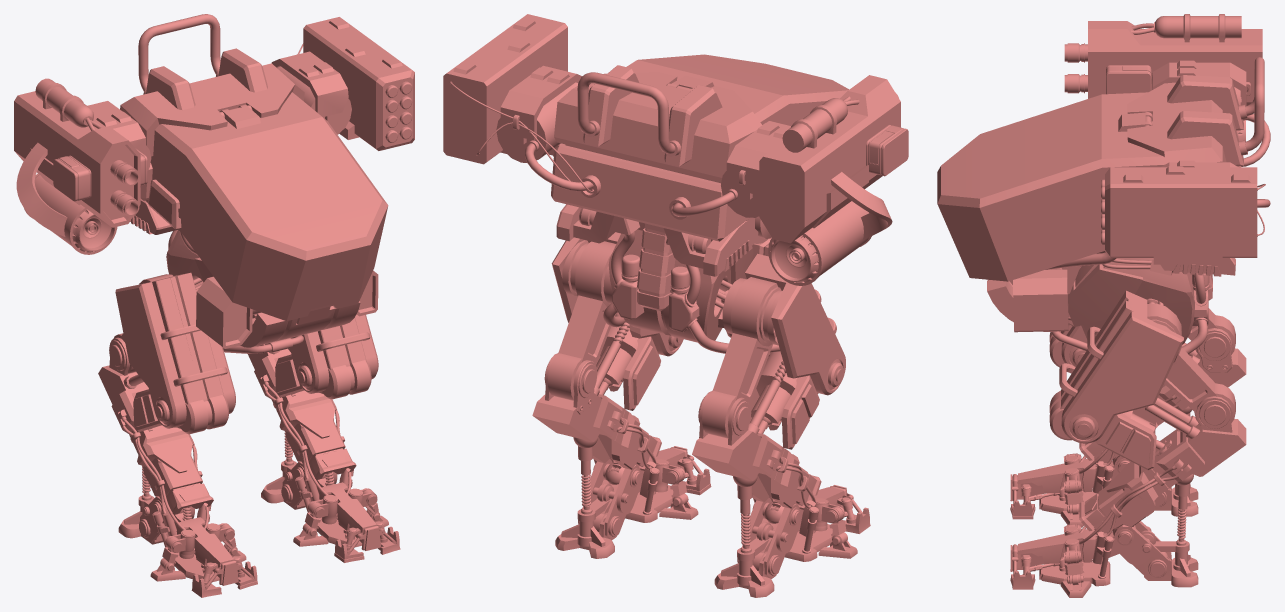
File: light.glb
The picture shows the model from 3 angles, left to right: view 1: azimuth 30°, elevation 25°; view 2: azimuth 150°, elevation 25°; view 3: azimuth 270°, elevation 25°; orthographic projection. The views are drawn at different scales.
Visible parts, largest first — view 1: light_mech_body_low_body.001_0, light_mech_weapon_low_weapon.001_0, light_mech_armorleg_low_armorleg.001_0, light_mech_leg_low_leg.001_0, light_mech_armorbody_low_armorbody.001_0, light_mech_foot_low_foot.001_0, light_mech_footdetail_low_foot.001_0, light_mech_wires_low_wires.001_0, light_mech_weapondetail_low_weapon.001_0, light_mech_spine_low_spine.001_0, light_mech_legdetail_low_leg.001_0; view 2: light_mech_weapon_low_weapon.001_0, light_mech_leg_low_leg.001_0, light_mech_armorbody_low_armorbody.001_0, light_mech_armorleg_low_armorleg.001_0, light_mech_foot_low_foot.001_0, light_mech_spine_low_spine.001_0, light_mech_wires_low_wires.001_0, light_mech_body_low_body.001_0, light_mech_footdetail_low_foot.001_0, light_mech_weapondetail_low_weapon.001_0, light_mech_legdetail_low_leg.001_0, light_mech_spinedetail_low_spine.001_0; view 3: light_mech_body_low_body.001_0, light_mech_weapon_low_weapon.001_0, light_mech_armorleg_low_armorleg.001_0, light_mech_leg_low_leg.001_0, light_mech_foot_low_foot.001_0, light_mech_armorbody_low_armorbody.001_0, light_mech_spine_low_spine.001_0, light_mech_footdetail_low_foot.001_0, light_mech_wires_low_wires.001_0, light_mech_legdetail_low_leg.001_0, light_mech_weapondetail_low_weapon.001_0.
Boxes of the visible parts, x1,y1,x2,y2 form: light_mech_body_low_body.001_0: (145,92,388,348); light_mech_weapon_low_weapon.001_0: (14,17,414,254); light_mech_armorleg_low_armorleg.001_0: (115,272,378,434); light_mech_leg_low_leg.001_0: (98,274,356,519); light_mech_armorbody_low_armorbody.001_0: (120,48,304,229); light_mech_foot_low_foot.001_0: (118,459,400,597); light_mech_footdetail_low_foot.001_0: (140,462,395,588); light_mech_wires_low_wires.001_0: (85,14,351,530); light_mech_weapondetail_low_weapon.001_0: (53,66,351,201); light_mech_spine_low_spine.001_0: (130,199,268,346); light_mech_legdetail_low_leg.001_0: (109,337,344,490); light_mech_weapon_low_weapon.001_0: (443,14,900,285); light_mech_leg_low_leg.001_0: (532,240,821,548); light_mech_armorbody_low_armorbody.001_0: (551,65,761,241); light_mech_armorleg_low_armorleg.001_0: (551,232,845,449); light_mech_foot_low_foot.001_0: (555,446,870,597); light_mech_spine_low_spine.001_0: (556,204,758,342); light_mech_wires_low_wires.001_0: (450,72,859,545); light_mech_body_low_body.001_0: (565,54,848,261); light_mech_footdetail_low_foot.001_0: (582,447,862,578); light_mech_weapondetail_low_weapon.001_0: (496,82,908,217); light_mech_legdetail_low_leg.001_0: (545,353,808,491); light_mech_spinedetail_low_spine.001_0: (579,208,712,294); light_mech_body_low_body.001_0: (937,92,1165,332); light_mech_weapon_low_weapon.001_0: (1064,14,1262,264); light_mech_armorleg_low_armorleg.001_0: (1049,290,1227,469); light_mech_leg_low_leg.001_0: (1079,303,1246,541); light_mech_foot_low_foot.001_0: (1010,453,1198,597); light_mech_armorbody_low_armorbody.001_0: (1118,75,1247,167); light_mech_spine_low_spine.001_0: (1068,258,1235,344); light_mech_footdetail_low_foot.001_0: (1012,453,1169,590); light_mech_wires_low_wires.001_0: (1045,23,1270,544); light_mech_legdetail_low_leg.001_0: (1110,328,1232,517); light_mech_weapondetail_low_weapon.001_0: (1106,65,1244,130).
Bounding box in the file's own units: 4.56 × 5.52 × 3.55.
